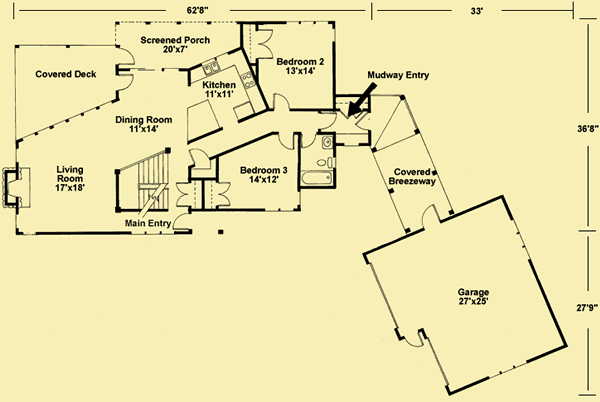door: (254, 28, 275, 59), (418, 203, 440, 231), (173, 180, 193, 208), (316, 110, 338, 133), (188, 146, 210, 168), (402, 327, 424, 349), (168, 211, 192, 231), (275, 129, 297, 150), (116, 43, 135, 65), (215, 181, 231, 207), (116, 71, 136, 91), (272, 92, 290, 110), (301, 130, 317, 150)
large_sink: (313, 157, 334, 168)
small_sink: (318, 134, 337, 151)
stairs: (113, 149, 169, 213)
tub: (301, 169, 334, 188)
